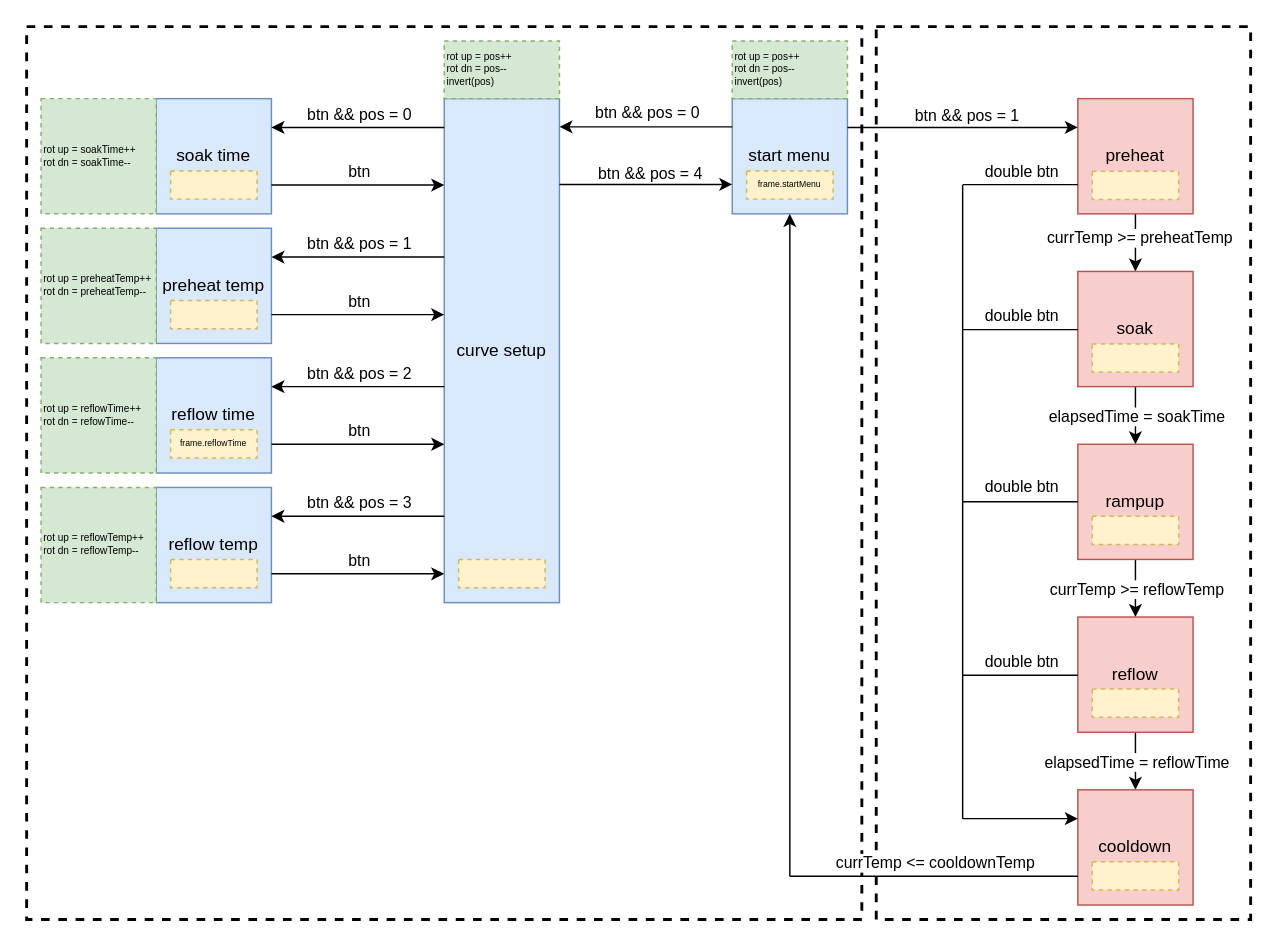
Some shapes in this 1276 by 945 pixel diagram are drawn without their labels. The shapes that lost their labels are listed below. From the top down, each one's centre as x and y in pixels, then its label:
(213,184): frame.soakTime
(1135,184): frame.preheat
(213,314): frame.preheatTemp
(1135,357): frame.soak
(1135,529): frame.rampup
(213,573): frame.reflowTemp
(501,573): frame.reflowMenu
(1135,702): frame.reflow
(1135,875): frame.cooldown
